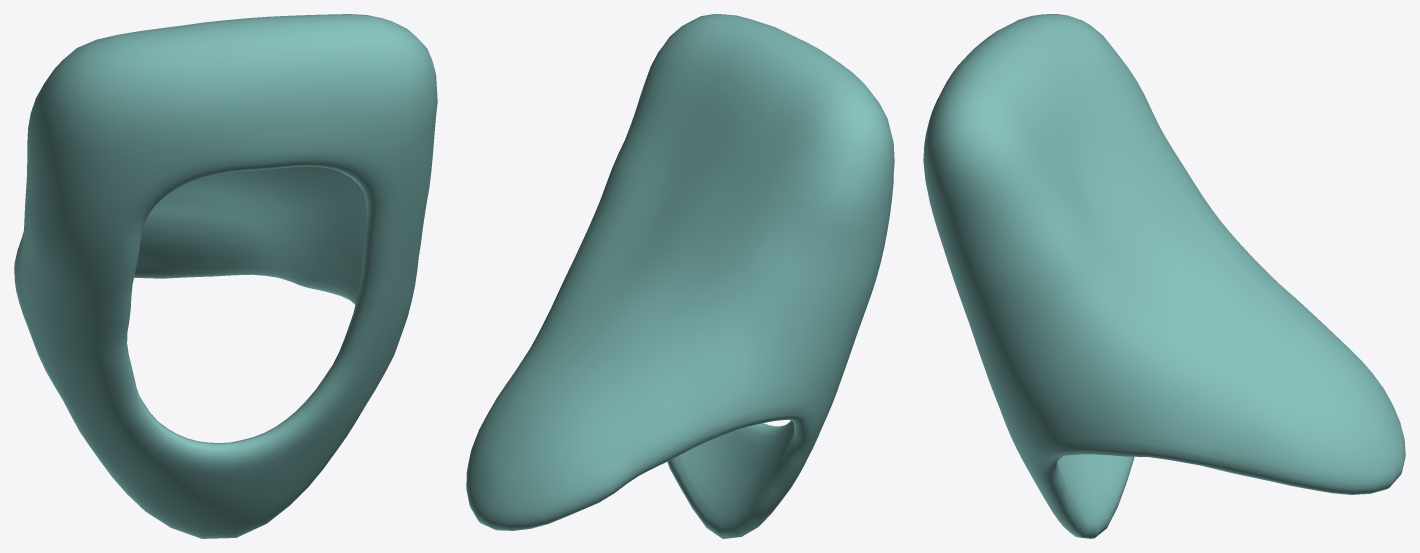
The model's file is BL2_Frame_Classic.001.glb.
The picture shows the model from 3 angles, left to right: view 1: azimuth 30°, elevation 25°; view 2: azimuth 150°, elevation 25°; view 3: azimuth 270°, elevation 25°; orthographic projection. The views are drawn at different scales.
Visible parts, largest first — view 1: BL2_Frame_Classic.001; view 2: BL2_Frame_Classic.001; view 3: BL2_Frame_Classic.001.
Boxes of the visible parts, x1,y1,x2,y2 form: BL2_Frame_Classic.001: (14, 14, 437, 538); BL2_Frame_Classic.001: (466, 14, 894, 538); BL2_Frame_Classic.001: (923, 14, 1405, 538).
Bounding box in the file's own units: 0.6314 × 0.9171 × 0.8417.
